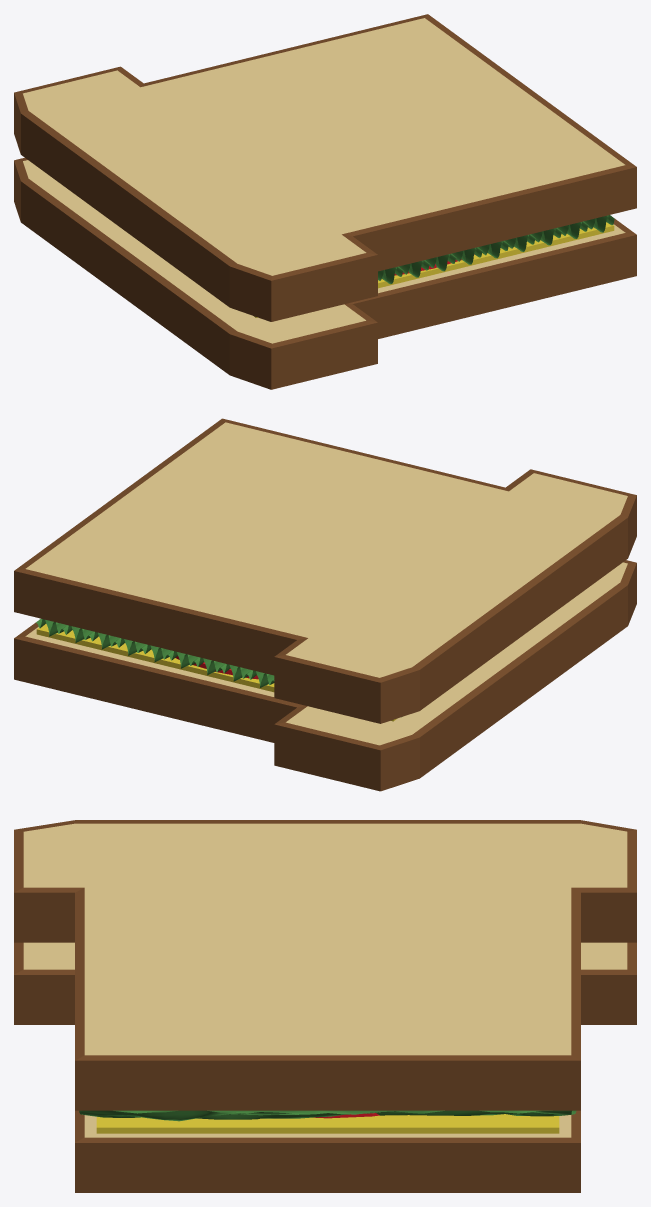
The model's file is sandwich_whole.fbx.
3 renders of one model, top to bottom at view 1: azimuth 30°, elevation 25°; view 2: azimuth 150°, elevation 25°; view 3: azimuth 270°, elevation 25°, orthographic. The views are drawn at different scales.
Visible parts, largest first — view 1: sandwich; view 2: sandwich; view 3: sandwich.
Part boxes in pixels (x1,y1,x2,y2): sandwich: (14,14,636,389); sandwich: (14,418,636,791); sandwich: (14,820,636,1192).
Bounding box in the file's own units: 18.76 × 4.87 × 20.52.
